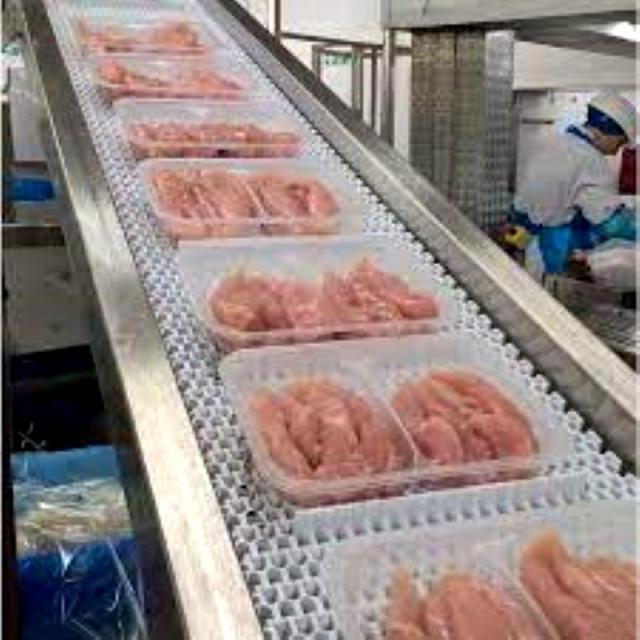food: (216, 330, 571, 513), (190, 242, 460, 347), (154, 146, 364, 247)
